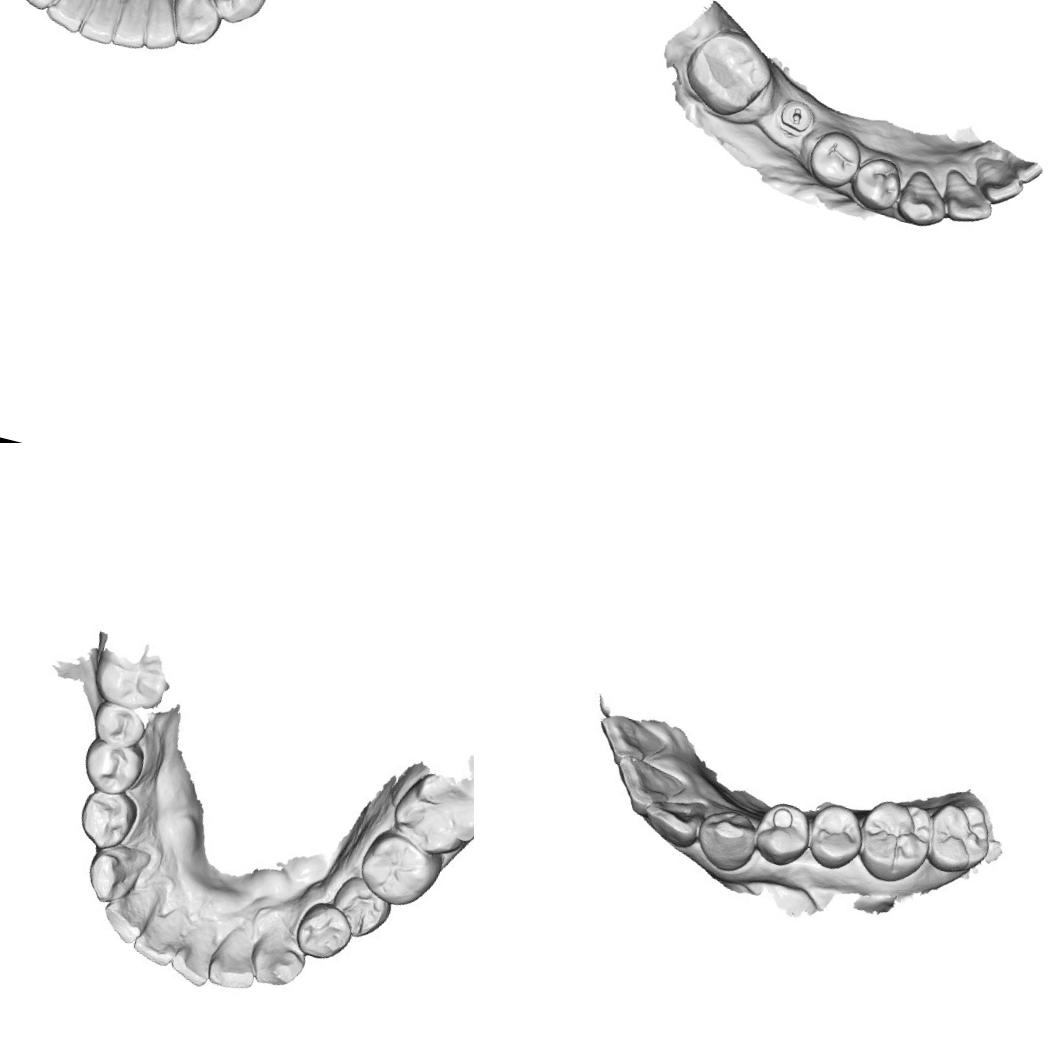canine: (78, 838, 150, 912), (244, 920, 312, 994), (692, 803, 758, 873), (892, 167, 954, 232), (163, 0, 229, 53), (10, 0, 73, 16)
implant_minus: (774, 95, 816, 138)
incisor: (615, 752, 690, 818), (592, 704, 669, 768), (100, 880, 164, 947), (205, 925, 268, 991), (936, 165, 1000, 229), (644, 789, 707, 845), (174, 916, 224, 986), (967, 154, 1028, 210), (134, 904, 188, 962), (140, 0, 191, 56), (109, 0, 159, 56), (75, 0, 125, 45), (44, 0, 100, 37)
molar: (676, 19, 781, 126), (386, 762, 474, 858), (851, 792, 938, 888), (355, 827, 442, 910), (922, 795, 999, 880)
premolar: (328, 872, 396, 944), (755, 798, 820, 870), (802, 125, 866, 194), (81, 736, 146, 799), (845, 150, 907, 216), (806, 800, 868, 866), (78, 786, 141, 849), (291, 901, 353, 965), (92, 694, 156, 752), (202, 0, 273, 28)
